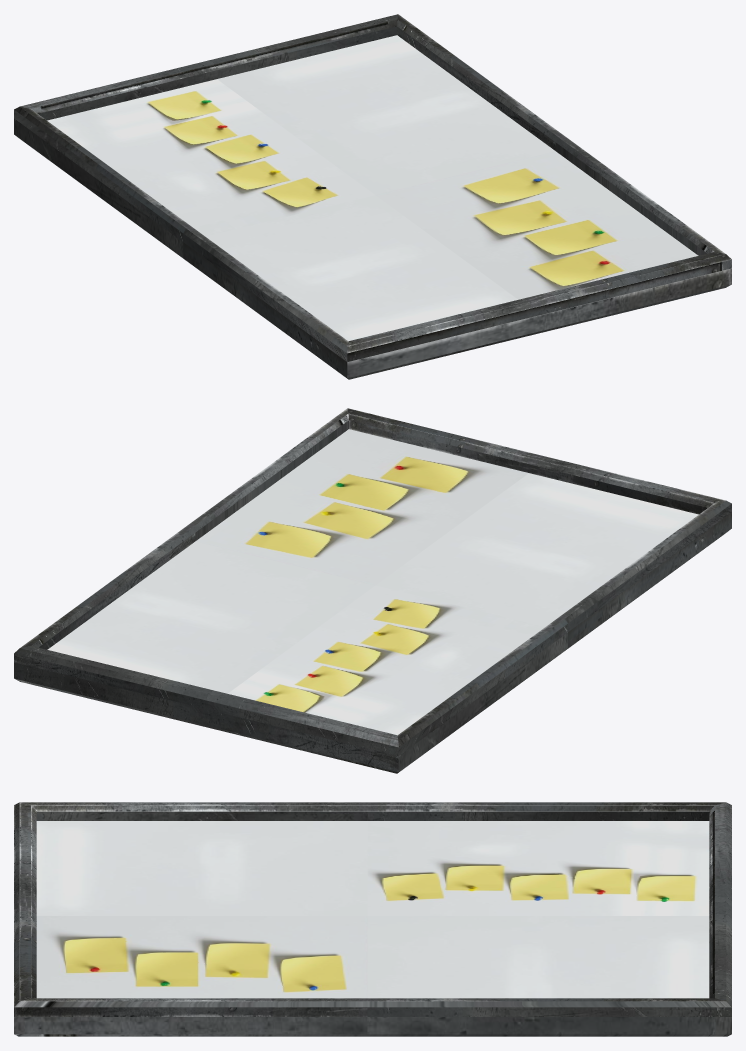
The model's file is PapanPetunjuk.fbx.
3 views of the same model, one above another, from view 1: azimuth 30°, elevation 25°; view 2: azimuth 150°, elevation 25°; view 3: azimuth 270°, elevation 25° (orthographic). The views are drawn at different scales.
Parts seen in each view (by area): view 1: PapanPetunjuk; view 2: PapanPetunjuk; view 3: PapanPetunjuk.
Boxes of the visible parts, x1,y1,x2,y2 form: PapanPetunjuk: (14, 14, 731, 379); PapanPetunjuk: (14, 408, 731, 773); PapanPetunjuk: (14, 802, 731, 1036).
Size of the model in its own units: 200 by 16.43 by 300.
